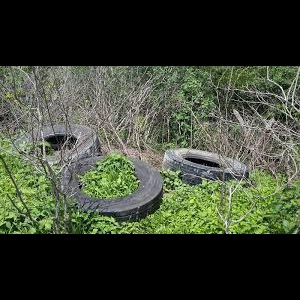tire: (58, 155, 163, 227), (11, 125, 101, 171), (162, 147, 250, 190)
